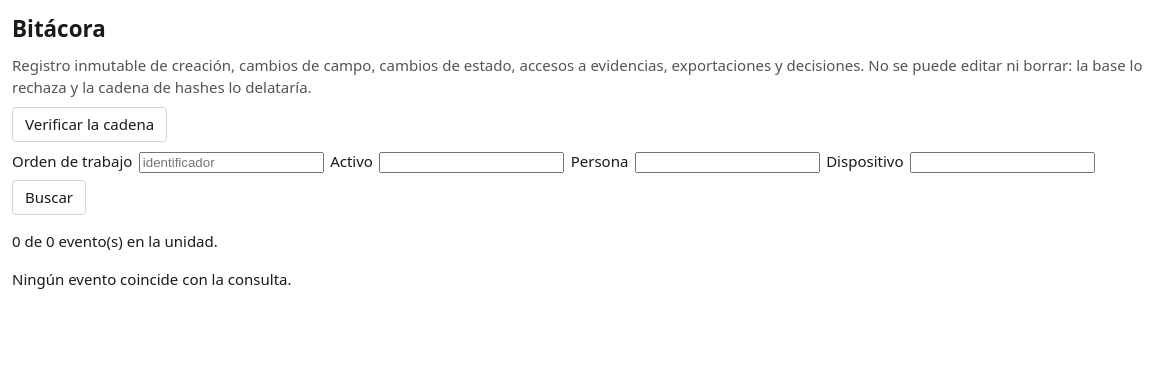
Scenario: la integridad de la cadena › una cadena íntegra se informa con su número de eventos
Click the button "Verificar la cadena". click: [90, 124]
box: 12,107 -> 167,142
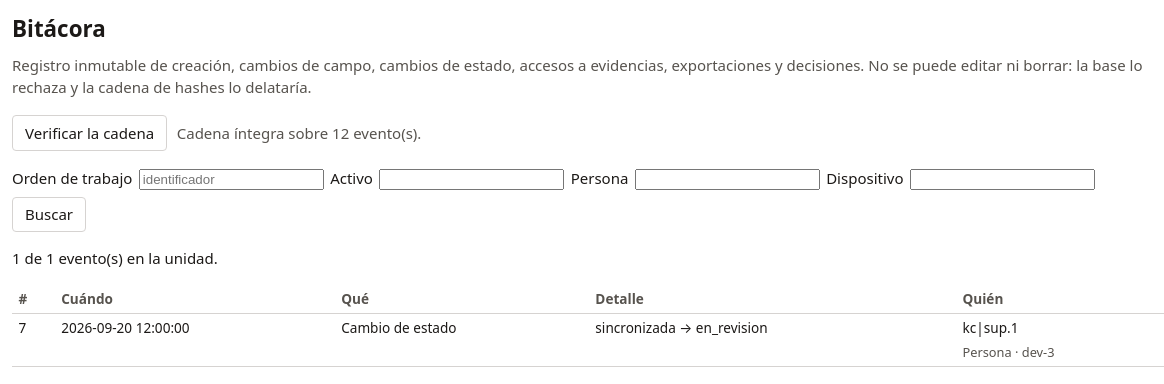
Now the text "Cadena íntegra sobre 12 evento(s)." is shown, box 177,122 -> 421,144
